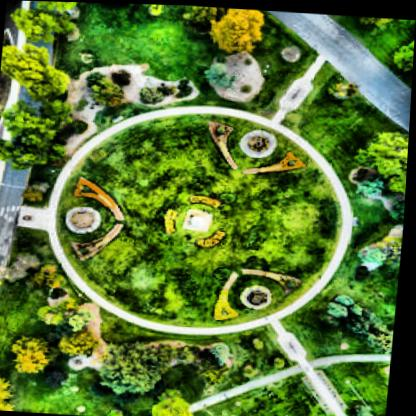tree-top: (357, 118, 411, 195), (0, 44, 75, 99), (102, 340, 170, 390), (207, 5, 264, 57), (1, 101, 60, 144), (12, 330, 60, 378), (0, 135, 54, 169), (351, 314, 398, 351), (9, 5, 57, 41), (88, 75, 133, 109), (61, 326, 107, 355), (148, 391, 197, 416), (206, 60, 240, 89), (0, 374, 22, 411), (324, 298, 359, 318), (390, 39, 415, 66), (40, 307, 70, 326), (361, 247, 393, 264), (212, 341, 238, 361), (335, 292, 359, 303)
